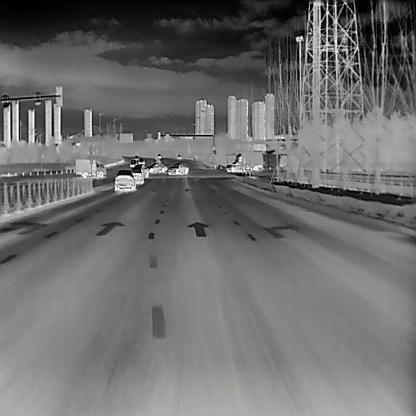car: (73, 157, 105, 175), (235, 150, 263, 170), (113, 168, 135, 192), (225, 160, 249, 171), (166, 162, 188, 174), (146, 161, 168, 171), (131, 169, 143, 184), (129, 158, 136, 167), (137, 156, 144, 163), (176, 153, 182, 158), (156, 152, 161, 158), (134, 154, 139, 160)
